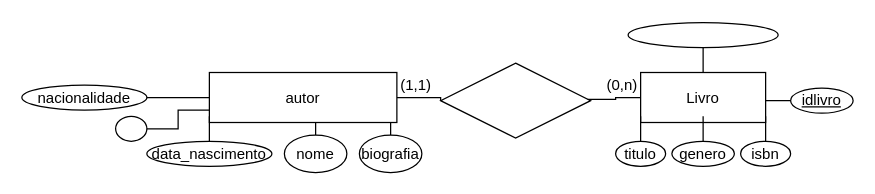
The diagram is 875 pixels wide and 194 high, and some of its shapes have lost their labels. The centre of each missing label's shape, as x and y in pixels:
ano_publicacao: the point at 702,34
ESCREVE: the point at 515,100
id: the point at 130,128
